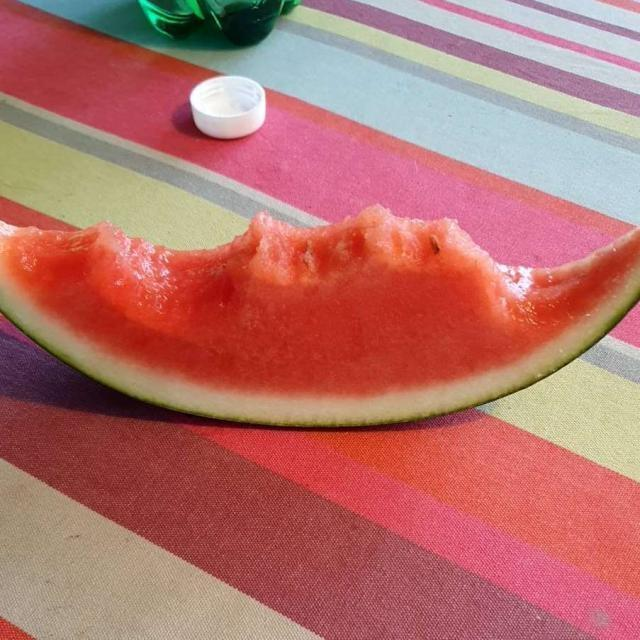watermelon: (10, 208, 604, 413)
